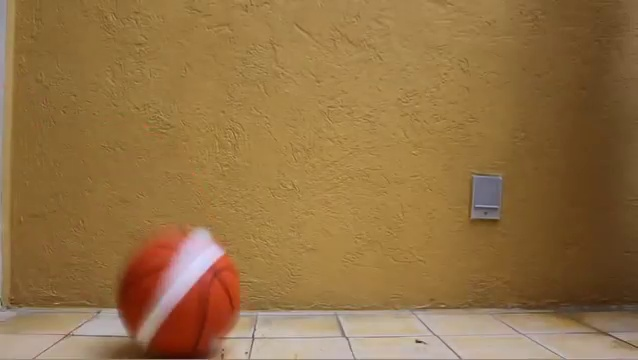ball: (116, 221, 243, 357)
